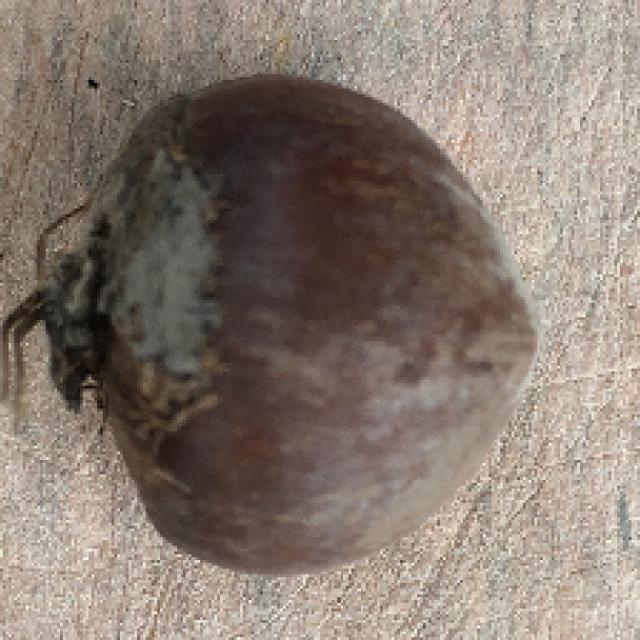damagedHazelnut: (0, 73, 549, 574)
